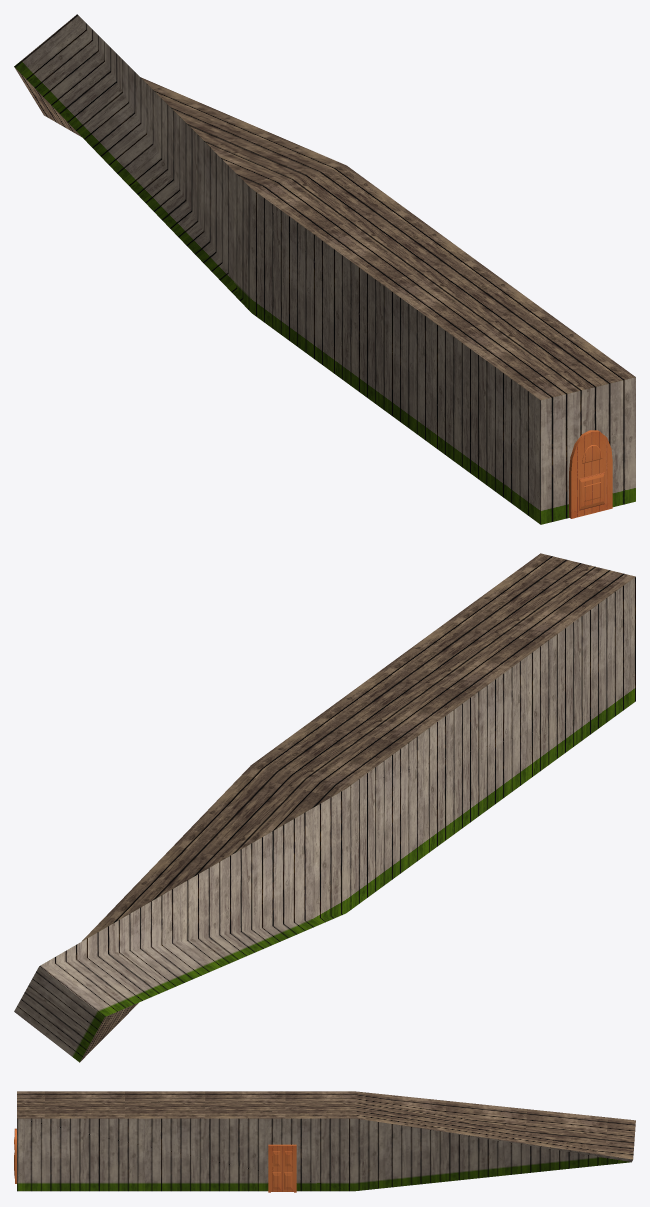
Rendered from corridor_03.fbx.
3 renders of one model, top to bottom at view 1: azimuth 30°, elevation 25°; view 2: azimuth 150°, elevation 25°; view 3: azimuth 270°, elevation 25°, orthographic. The views are drawn at different scales.
Parts seen in each view (by area): view 1: Cube, Cube.004; view 2: Cube; view 3: Cube, Cube.001.
Boxes of the visible parts, x1,y1,x2,y2 form: Cube: (14, 14, 635, 524); Cube.004: (569, 430, 612, 518); Cube: (14, 553, 635, 1062); Cube: (17, 1091, 635, 1191); Cube.001: (268, 1144, 296, 1192).
Size of the model in its own units: 415 by 502 by 3873.
5 materials, 5 textured.
